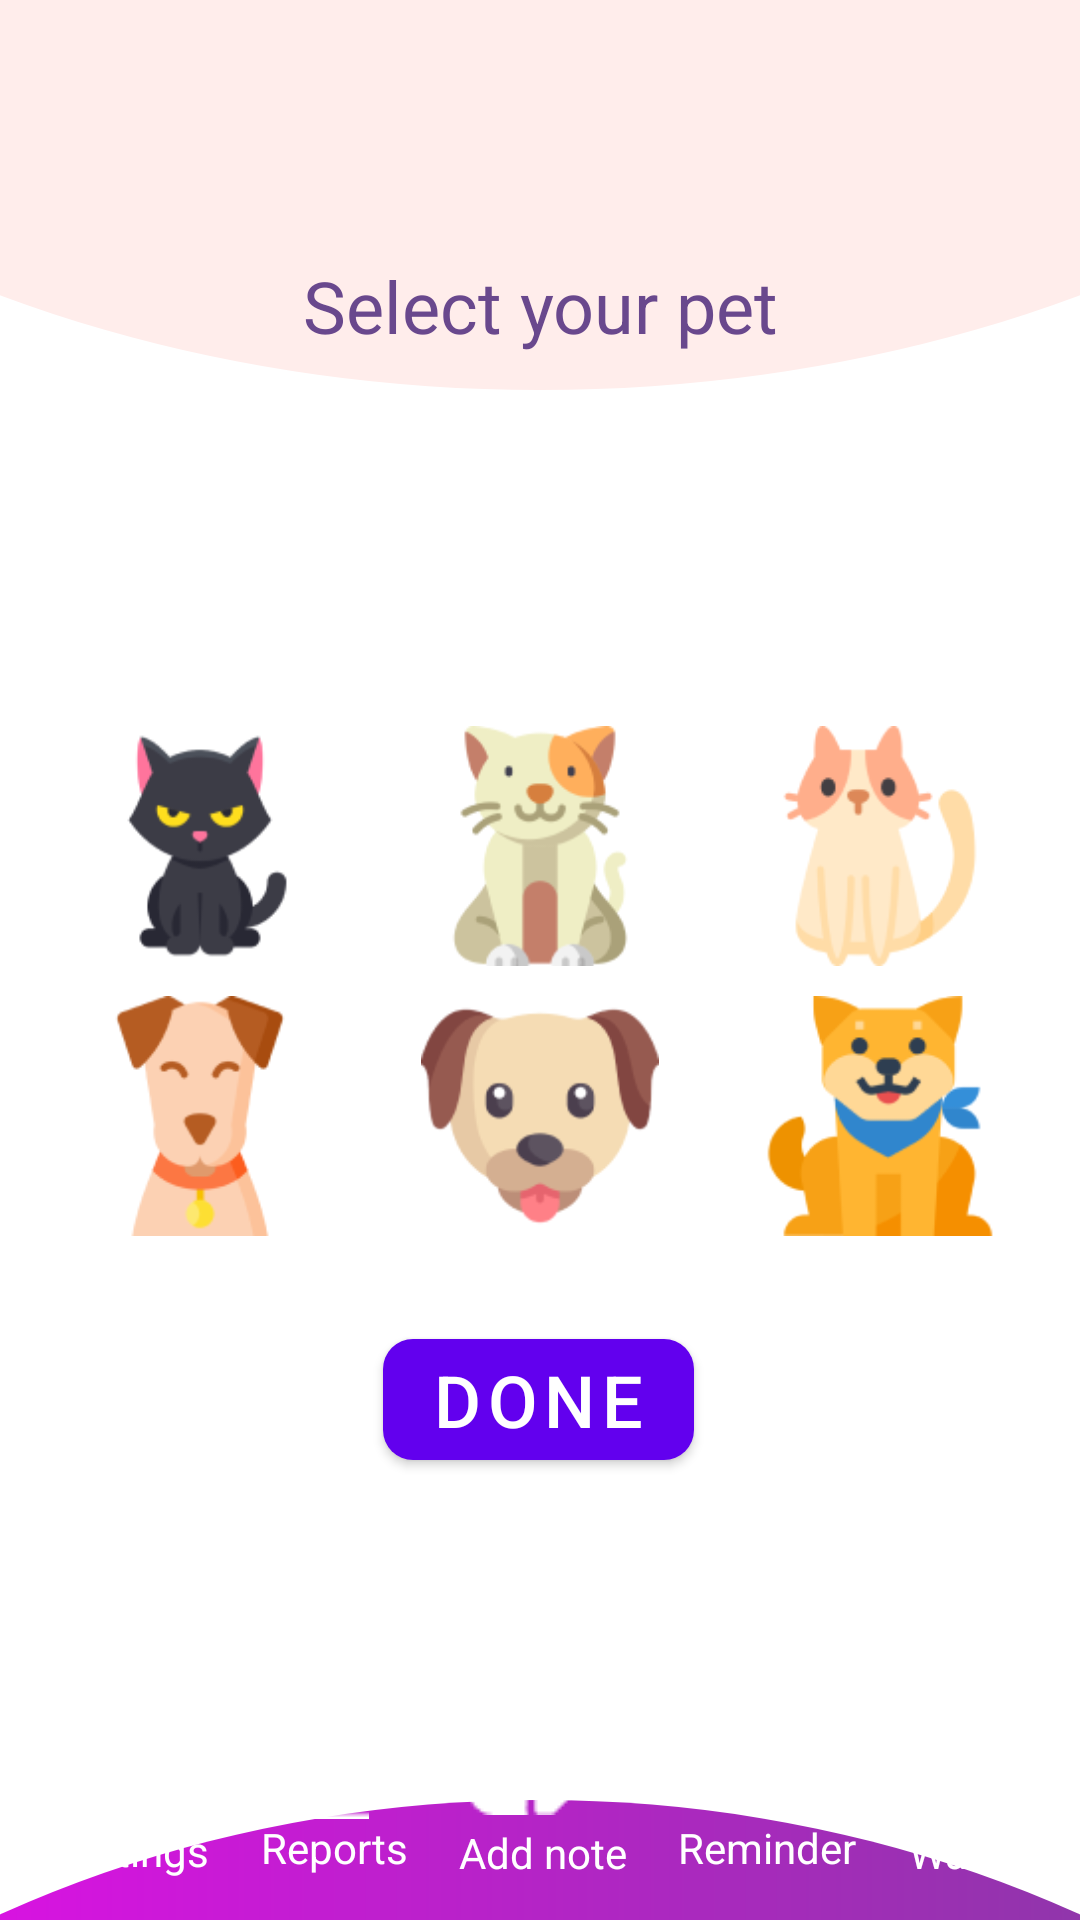

Screen size 1080w x 1920h. Icon name, then its center in pixels as (x,y):
pet: (540,846), (880,846), (207,846), (200,1116), (880,1116), (540,1116)
